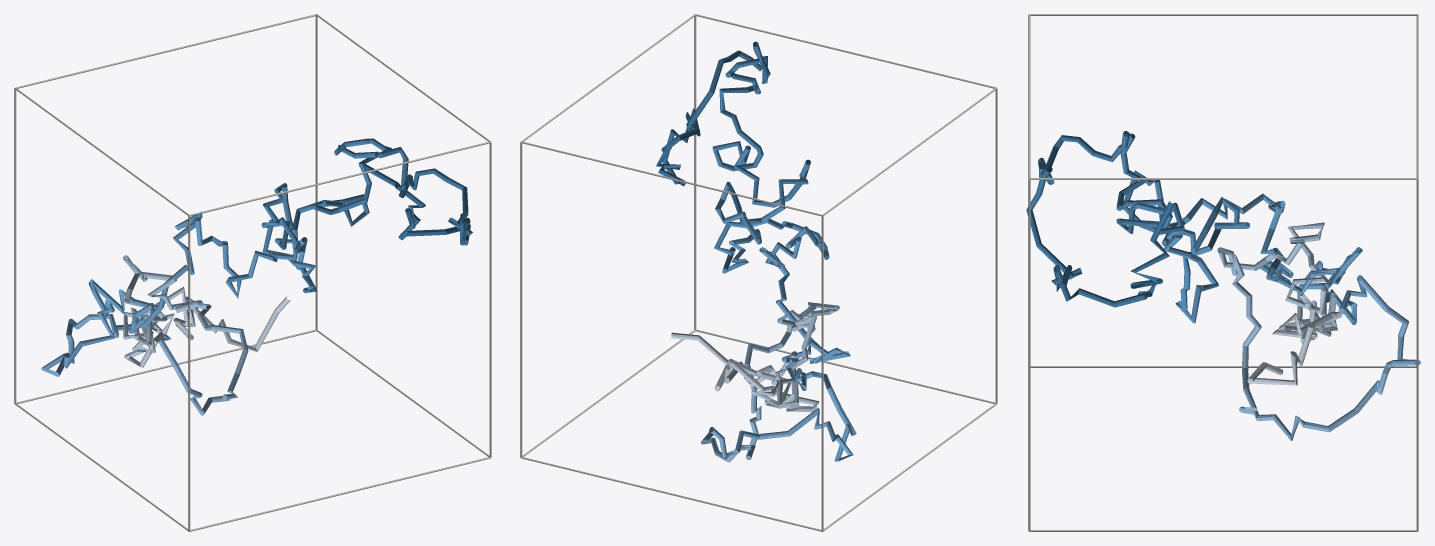
3 views of the same model, side by side, from view 1: azimuth 30°, elevation 25°; view 2: azimuth 150°, elevation 25°; view 3: azimuth 270°, elevation 25° (orthographic). The views are drawn at different scales.
Parts seen in each view (by area): view 1: geometry_0, geometry_1; view 2: geometry_0, geometry_1; view 3: geometry_0, geometry_1.
Part boxes in pixels (<box>): geometry_0: <box>41,138,472,415</box>; geometry_1: <box>14,14,491,531</box>; geometry_0: <box>656,41,856,462</box>; geometry_1: <box>520,14,997,531</box>; geometry_0: <box>1026,131,1420,440</box>; geometry_1: <box>1028,14,1418,531</box>.
Bounding box in the file's own units: 0.3048 × 0.3048 × 0.3047.
